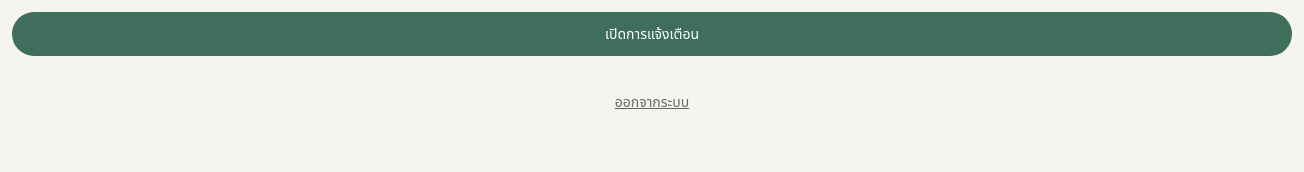
settings button calls enablePush
The image size is (1304, 172).
Click the button "เปิดการแจ้งเตือน": (652, 34) [12,12,1292,56]
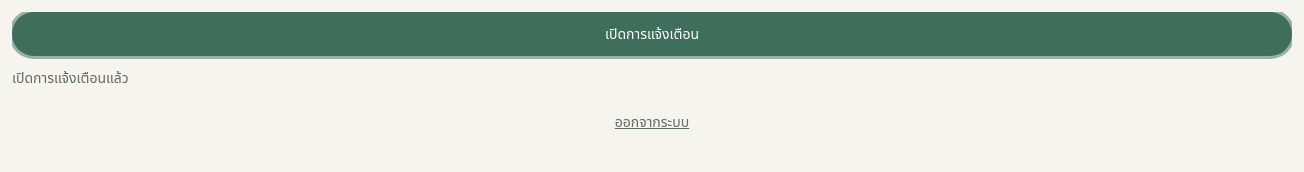
Result: the text "เปิดการแจ้งเตือนแล้ว" is shown at [12,68,129,87]
